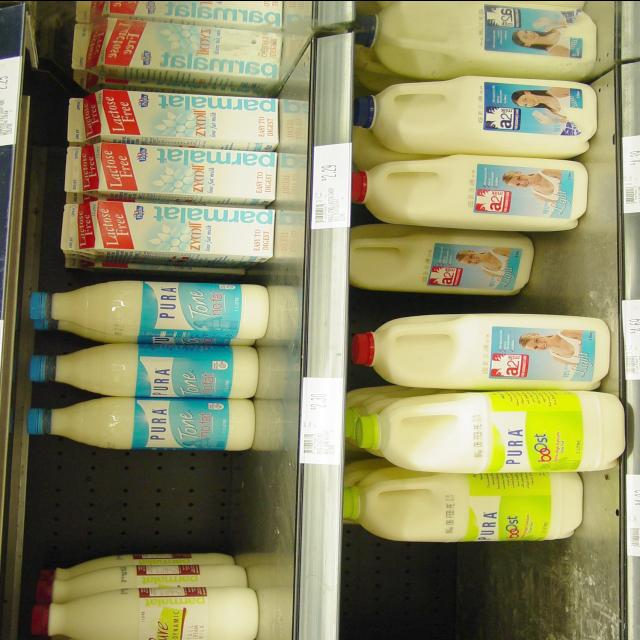empty_space: (352, 551, 606, 630), (28, 455, 246, 546)
